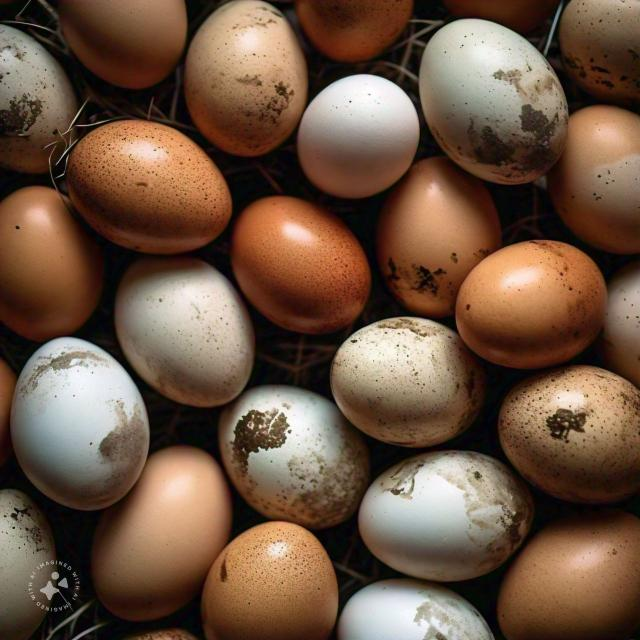Brown Egg: (94, 435, 237, 622), (66, 120, 240, 253), (500, 501, 640, 640), (198, 515, 342, 640), (0, 180, 104, 334), (57, 0, 195, 93)
Dirt Stained Egg: (398, 16, 573, 182), (215, 378, 373, 534), (355, 448, 536, 584), (14, 337, 149, 511), (373, 150, 507, 310), (328, 322, 493, 446), (502, 370, 640, 505), (189, 0, 302, 151), (3, 15, 74, 177), (342, 574, 494, 640), (0, 481, 57, 640)
White Egg: (108, 239, 256, 404), (298, 67, 420, 201)
